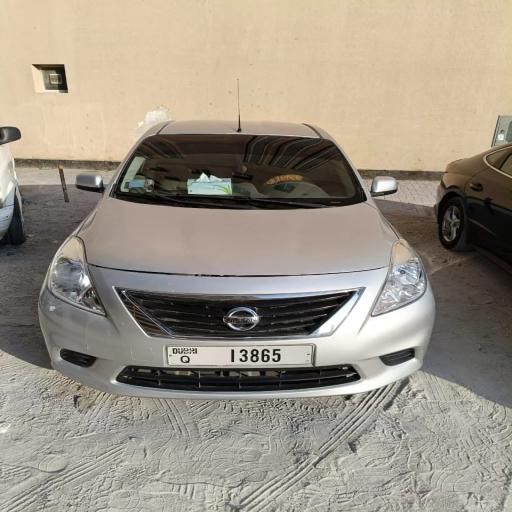license-plates: (167, 345, 313, 366)
